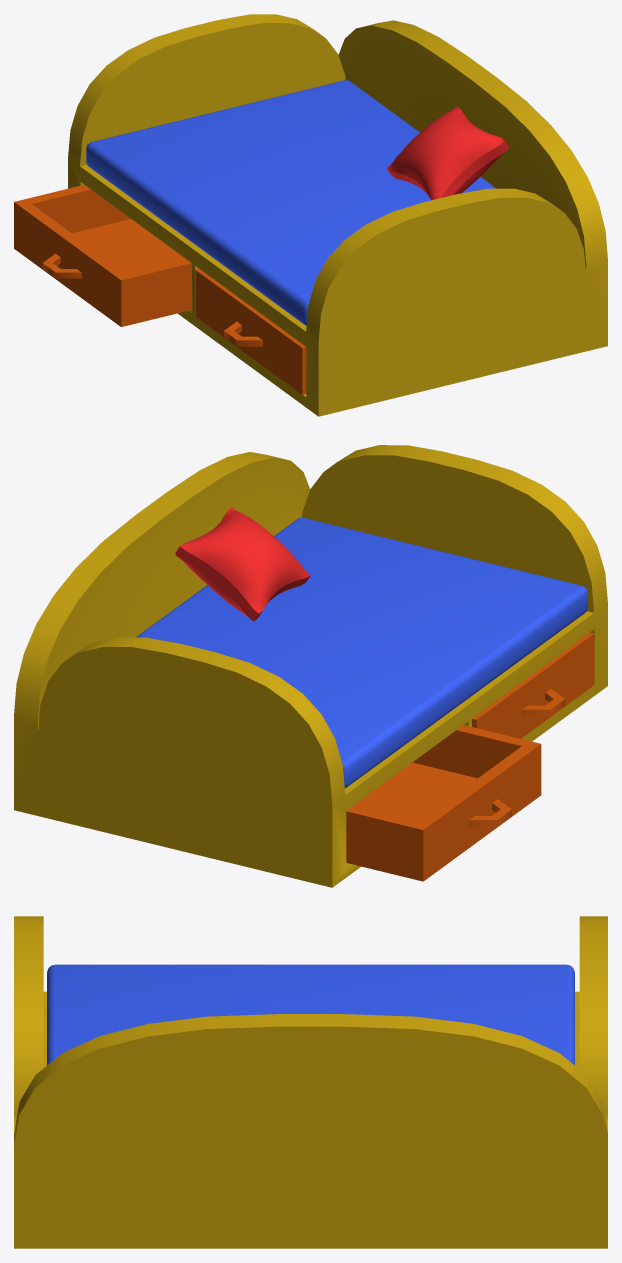
Rendered from babybed.FBX.
3 renders of one model, top to bottom at view 1: azimuth 30°, elevation 25°; view 2: azimuth 150°, elevation 25°; view 3: azimuth 270°, elevation 25°, orthographic. The views are drawn at different scales.
Parts seen in each view (by area): view 1: babuBed, Mattress, drawer1, cuision, drawer2; view 2: babuBed, Mattress, drawer1, cuision, drawer2; view 3: babuBed, Mattress.
Boxes of the visible parts, x1,y1,x2,y2 form: babuBed: (68, 14, 607, 416); Mattress: (86, 80, 496, 325); drawer1: (14, 184, 191, 326); cuision: (386, 106, 508, 200); drawer2: (195, 268, 306, 394); babuBed: (14, 445, 607, 887); Mattress: (136, 517, 587, 788); drawer1: (346, 725, 541, 881); cuision: (175, 507, 310, 621); drawer2: (472, 632, 594, 738); babuBed: (14, 916, 607, 1248); Mattress: (47, 964, 574, 1065).
Bounding box in the file's own units: 782 × 371 × 900.
